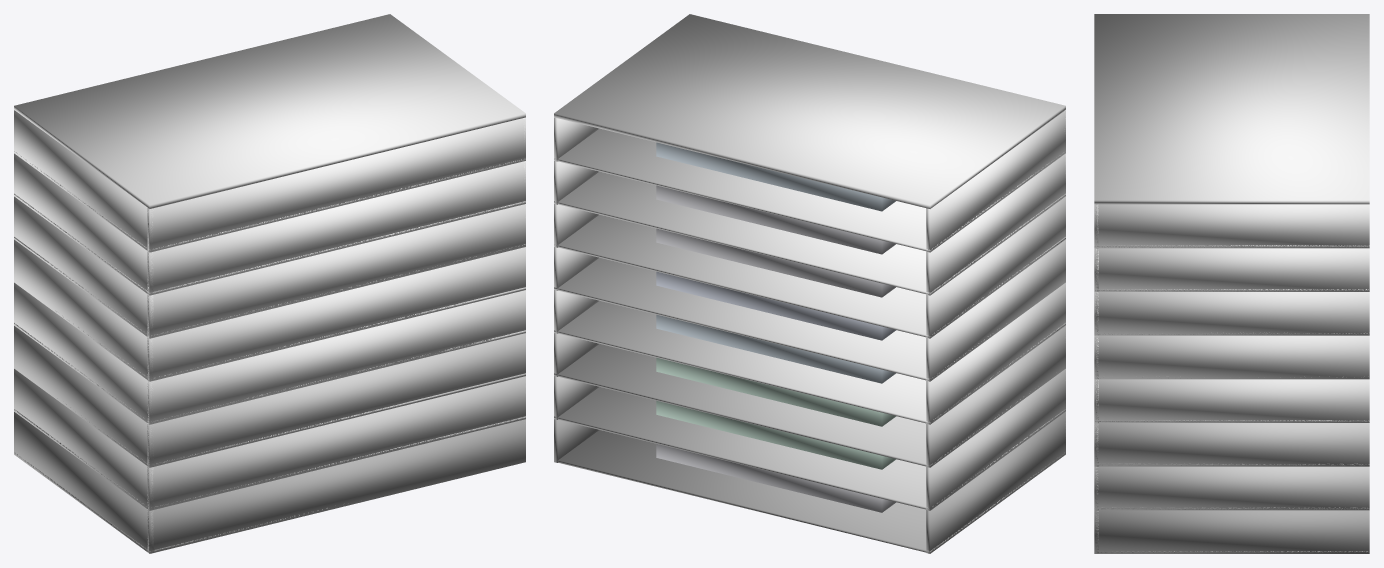
Rendered from 赤土崎多功能館_最終版.glb.
3 views of the same model, side by side, from view 1: azimuth 30°, elevation 25°; view 2: azimuth 150°, elevation 25°; view 3: azimuth 270°, elevation 25° (orthographic).
Parts seen in each view (by area): view 1: world; view 2: world; view 3: world.
Boxes of the visible parts, x1=… form: world: x1=14, y1=14, x2=525, y2=553; world: x1=554, y1=14, x2=1065, y2=553; world: x1=1094, y1=14, x2=1369, y2=553.
Size of the model in its own units: 4.8 by 4.26 by 3.
Materials: 1 (1 with a texture image).
